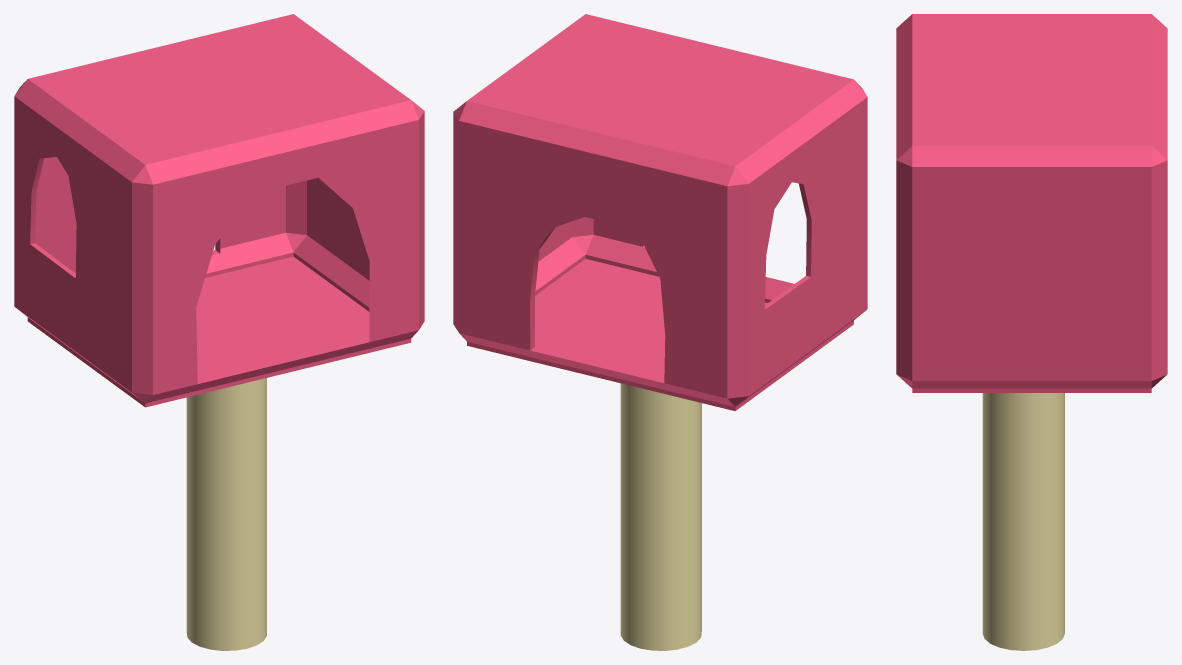
The model's file is SM_house_1.fbx.
3 views of the same model, side by side, from view 1: azimuth 30°, elevation 25°; view 2: azimuth 150°, elevation 25°; view 3: azimuth 270°, elevation 25° (orthographic).
Parts seen in each view (by area): view 1: SM_house_1; view 2: SM_house_1; view 3: SM_house_1.
Boxes of the visible parts, left/top/right/bottom form: SM_house_1: left=14, top=14, right=424, bottom=650; SM_house_1: left=453, top=14, right=867, bottom=650; SM_house_1: left=896, top=14, right=1167, bottom=650.
Bounding box in the file's own units: 911 × 1157 × 2047.
